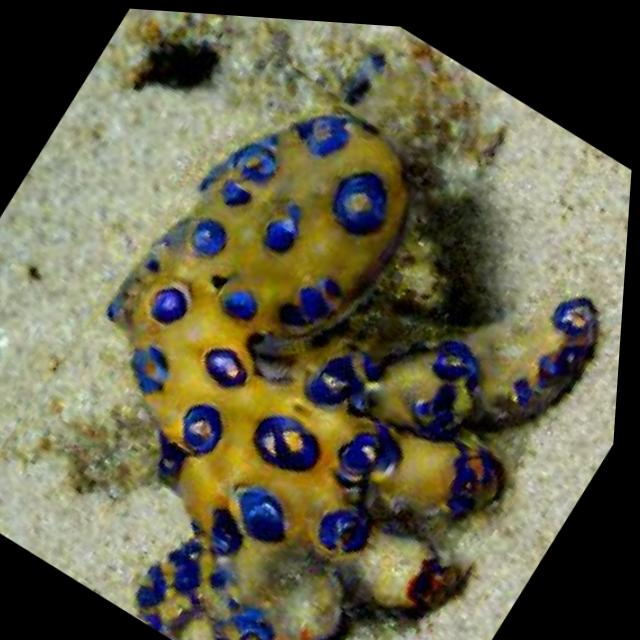blue_ringed_octopus: (0, 29, 638, 640)
